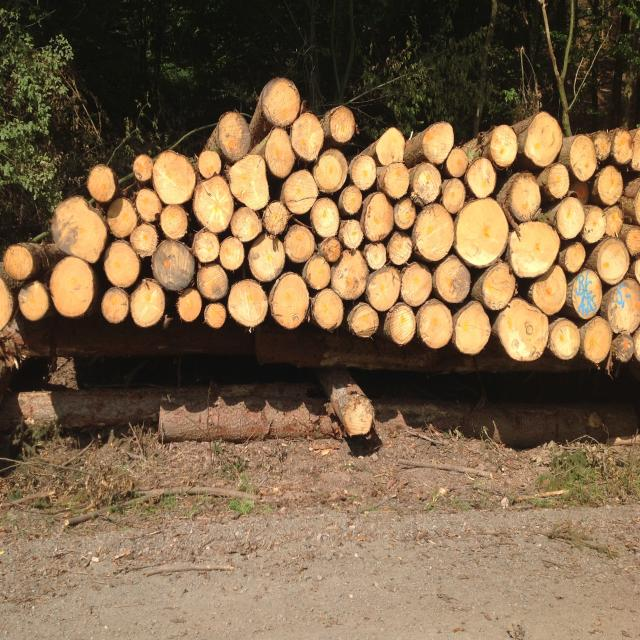wood-log: (454, 197, 509, 268), (51, 196, 109, 263), (497, 298, 549, 361), (509, 221, 560, 278), (50, 256, 94, 318), (192, 176, 234, 234), (228, 154, 269, 211), (152, 151, 196, 204), (151, 239, 195, 291), (415, 204, 454, 261), (271, 273, 309, 330), (524, 112, 562, 167), (330, 249, 369, 300), (228, 279, 268, 328), (262, 77, 300, 127), (455, 303, 491, 355), (248, 233, 285, 283), (607, 278, 640, 333), (104, 239, 141, 288), (130, 278, 165, 328), (434, 256, 471, 303), (532, 264, 566, 315), (290, 112, 324, 161), (481, 261, 515, 310), (282, 169, 319, 214), (312, 149, 348, 194), (365, 266, 401, 311), (219, 112, 251, 162), (596, 238, 630, 285), (510, 172, 541, 223), (265, 127, 295, 179), (420, 303, 452, 350), (572, 269, 601, 320), (365, 192, 394, 241), (311, 288, 344, 330), (400, 263, 432, 306), (584, 316, 612, 365), (422, 122, 454, 164), (106, 197, 138, 238), (410, 164, 441, 206), (19, 281, 51, 321), (550, 318, 580, 360), (570, 136, 598, 181), (196, 263, 229, 301), (556, 196, 585, 239), (465, 157, 496, 197), (310, 197, 340, 238), (284, 224, 315, 263), (375, 127, 405, 166), (344, 398, 374, 437), (490, 126, 518, 167), (389, 303, 416, 345), (230, 208, 262, 243), (4, 244, 34, 281), (598, 166, 624, 206), (88, 164, 115, 202), (330, 105, 355, 146), (101, 288, 130, 323), (130, 223, 159, 258), (580, 206, 606, 244), (160, 204, 188, 239), (262, 201, 290, 236), (351, 303, 379, 338), (192, 229, 220, 263), (135, 189, 162, 223), (219, 236, 245, 271), (350, 156, 376, 191), (385, 164, 410, 199), (441, 179, 466, 214), (176, 288, 202, 321), (386, 233, 412, 266), (306, 256, 331, 290), (548, 162, 570, 199), (611, 129, 632, 164), (394, 197, 416, 229), (445, 147, 468, 177), (342, 219, 364, 249), (198, 151, 221, 179), (604, 206, 624, 238), (342, 186, 362, 216), (565, 243, 585, 273), (132, 154, 154, 181), (1, 278, 12, 331), (204, 303, 226, 328), (365, 243, 386, 269), (568, 181, 589, 206), (594, 131, 611, 161), (616, 335, 634, 363), (625, 226, 640, 256), (324, 238, 341, 263), (632, 126, 639, 172), (632, 328, 640, 363), (632, 258, 640, 283)
